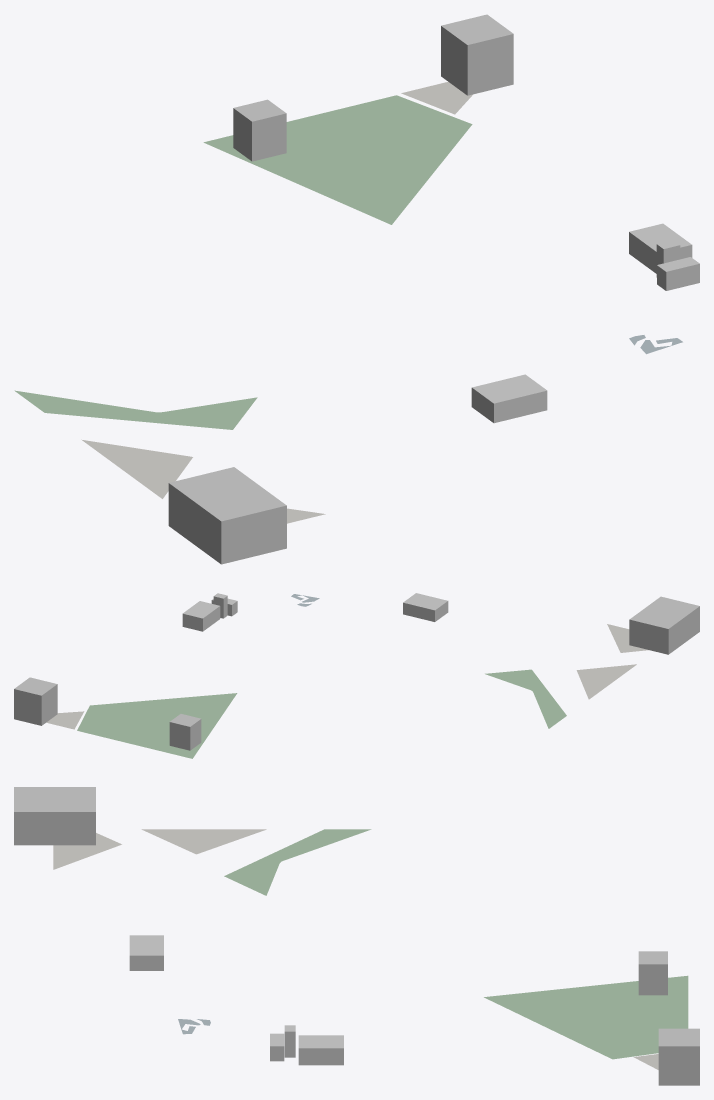
File: 135_101_mid.glb
3 renders of one model, top to bottom at view 1: azimuth 30°, elevation 25°; view 2: azimuth 150°, elevation 25°; view 3: azimuth 270°, elevation 25°, orthographic. The views are drawn at different scales.
Size of the model in its own units: 500 by 37.01 by 540.
